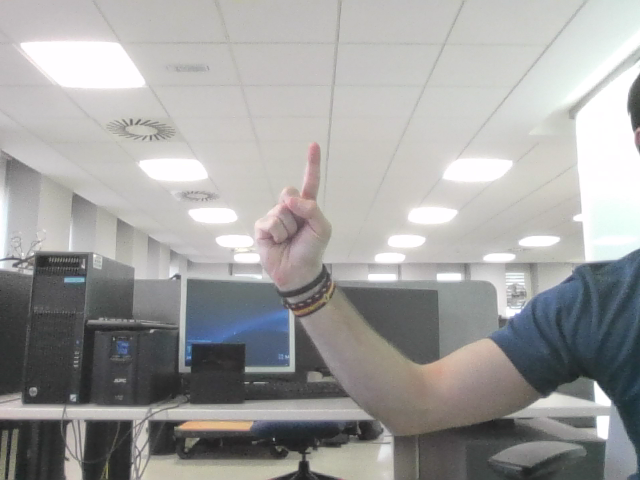1Dedo: (264, 153, 320, 252)
